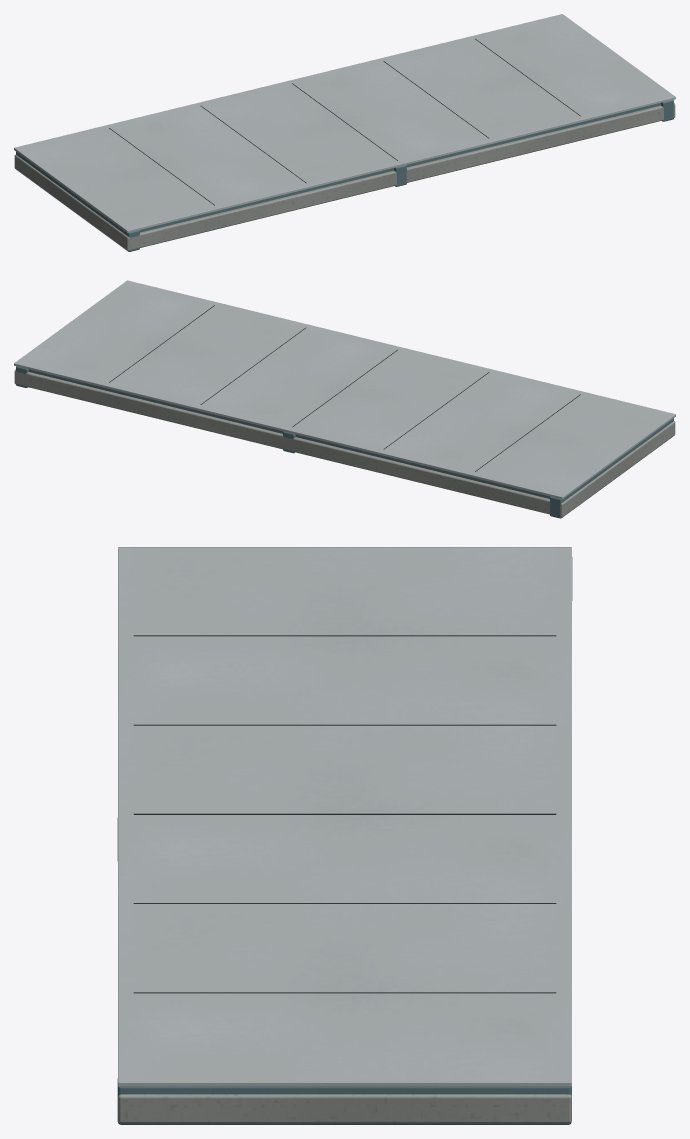
File: gorgehold-survivor-gallery-and-operations-gallery-rais-5197a78c__32853.glb
3 renders of one model, top to bottom at view 1: azimuth 30°, elevation 25°; view 2: azimuth 150°, elevation 25°; view 3: azimuth 270°, elevation 25°, orthographic. The views are drawn at different scales.
Parts seen in each view (by area): view 1: gallery-raised-insulated-floor-cassette; view 2: gallery-raised-insulated-floor-cassette; view 3: gallery-raised-insulated-floor-cassette.
Part boxes in pixels (x1,y1,x2,y2): gallery-raised-insulated-floor-cassette: (14, 14, 675, 251); gallery-raised-insulated-floor-cassette: (14, 280, 675, 518); gallery-raised-insulated-floor-cassette: (117, 547, 572, 1124).
Size of the model in its own units: 6 by 0.2385 by 2.15.
Materials: 4 (3 with a texture image).
